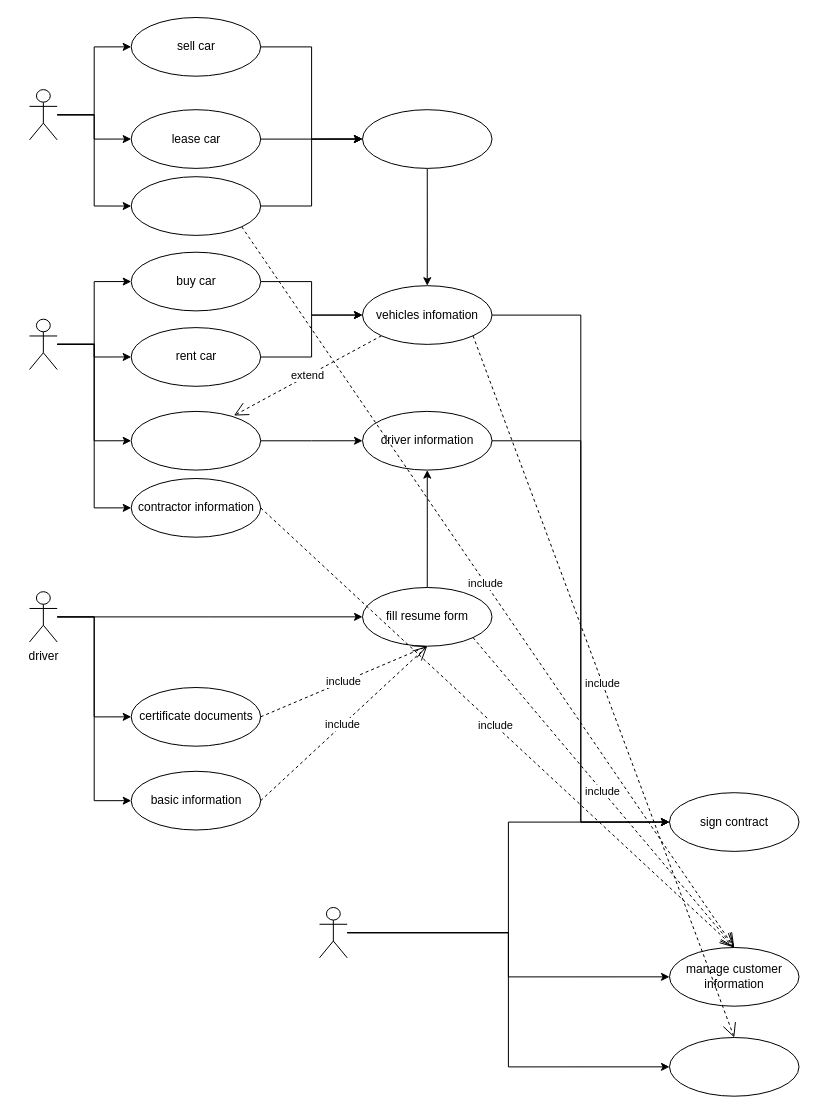
Image size: 817x1114. Some labels were removed from this diagram. Here are the shapes that lost their labels. From the top down, the centre of each, then its label:
At (x=42, y=114): "owner".
At (x=427, y=138): "fill the form".
At (x=195, y=205): "owner information".
At (x=42, y=344): "contractor".
At (x=195, y=440): "look for driver".
At (x=332, y=932): "administractor".
At (x=733, y=1066): "manage car information".
